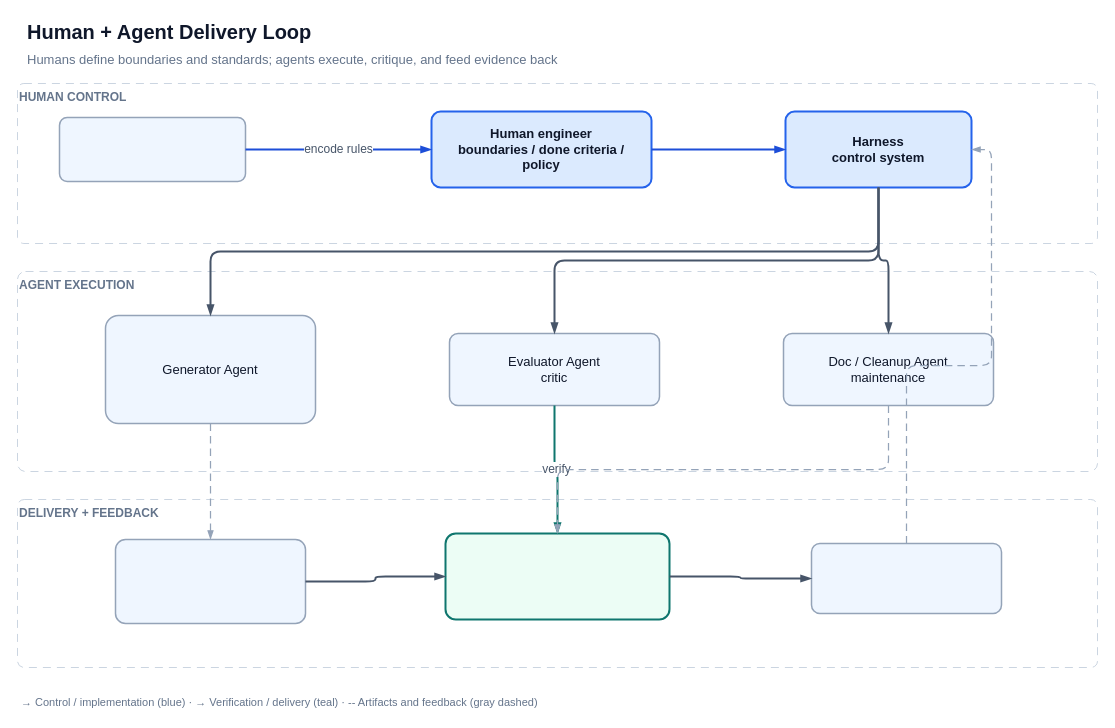
The diagram is 1115 pixels wide and 728 high, and some of its shapes have lost their labels. The shapes that lost their labels are listed below. From the top down, each one's centre as x and y in pixels, then its label:
the point at 152,149: Business goals and messy reality
the point at 210,581: Code + config changes
the point at 557,576: Verifiable software system
the point at 906,578: Evidence and new constraints
